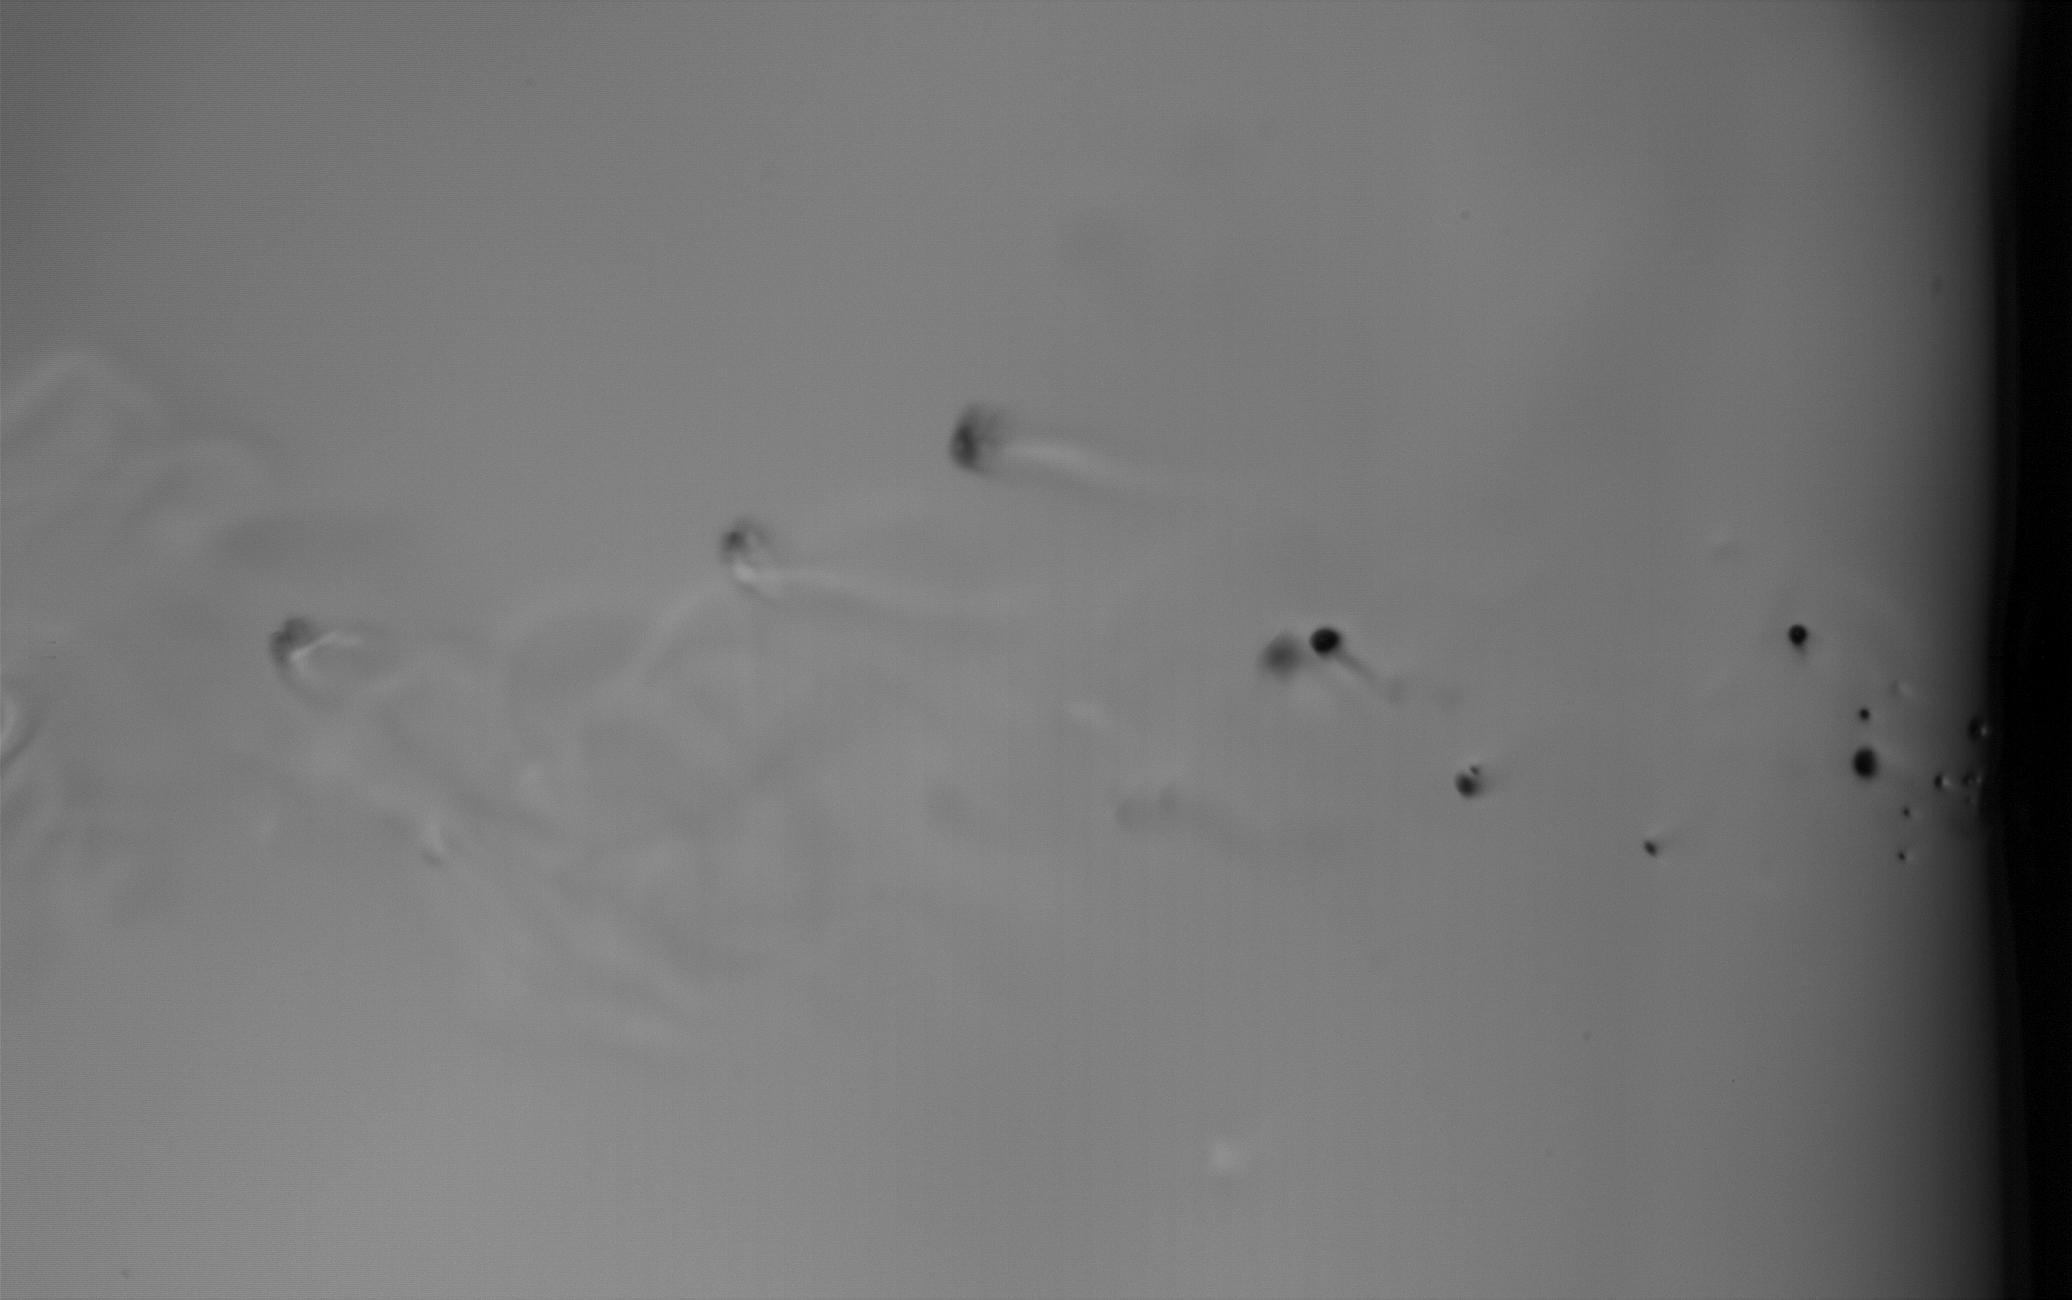Blurry: (266, 613, 347, 684), (946, 406, 1024, 470), (717, 520, 768, 577), (1259, 641, 1305, 675)
ClassicalEvaporation: (1308, 625, 1341, 659), (1850, 747, 1880, 777), (1783, 622, 1809, 649), (1455, 774, 1479, 798), (1644, 840, 1656, 857), (1859, 707, 1870, 720), (1470, 765, 1479, 774), (1904, 809, 1912, 818), (1897, 854, 1904, 863)
